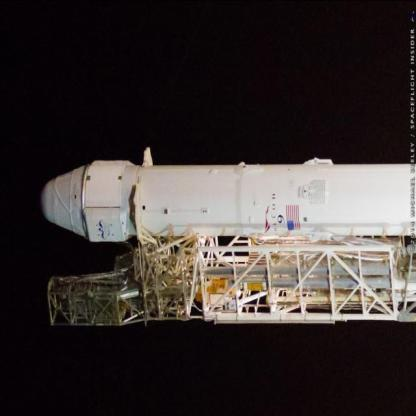MIL_TBM: (43, 150, 414, 249)
